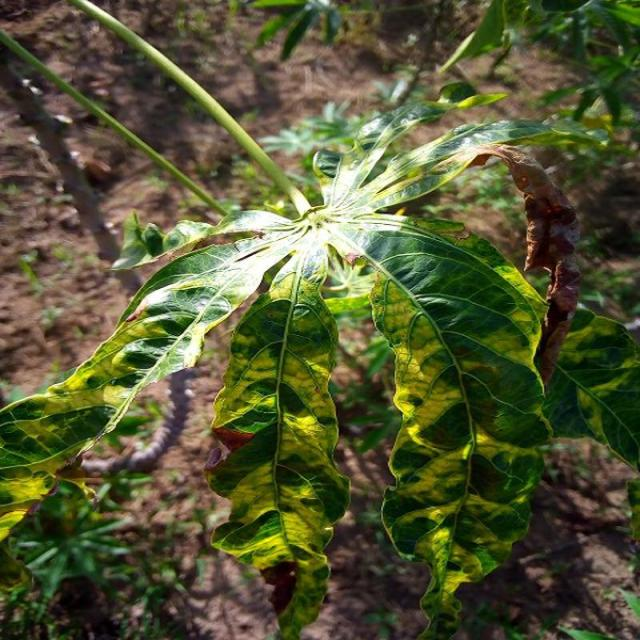cassava leaf: (0, 96, 638, 637), (364, 211, 553, 637), (204, 269, 351, 637)
